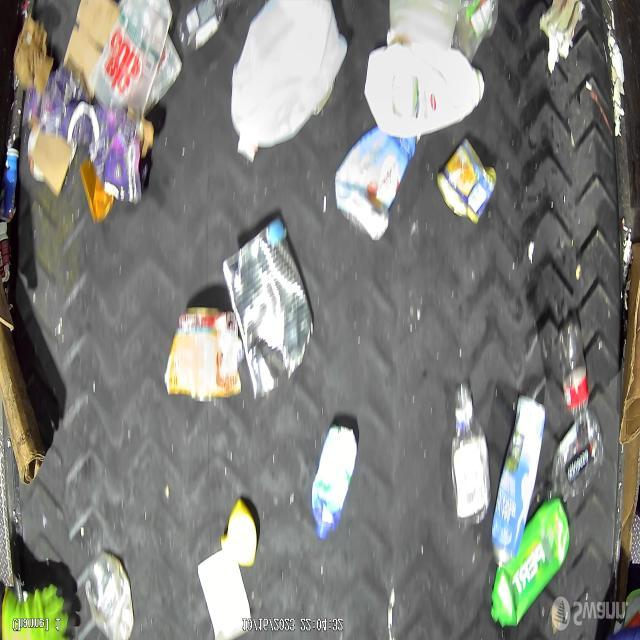can: (219, 217, 317, 404), (439, 136, 499, 224)
milk_jug: (232, 0, 348, 166), (366, 34, 484, 144)
plastic_bottle: (558, 312, 594, 450), (552, 414, 602, 508)
